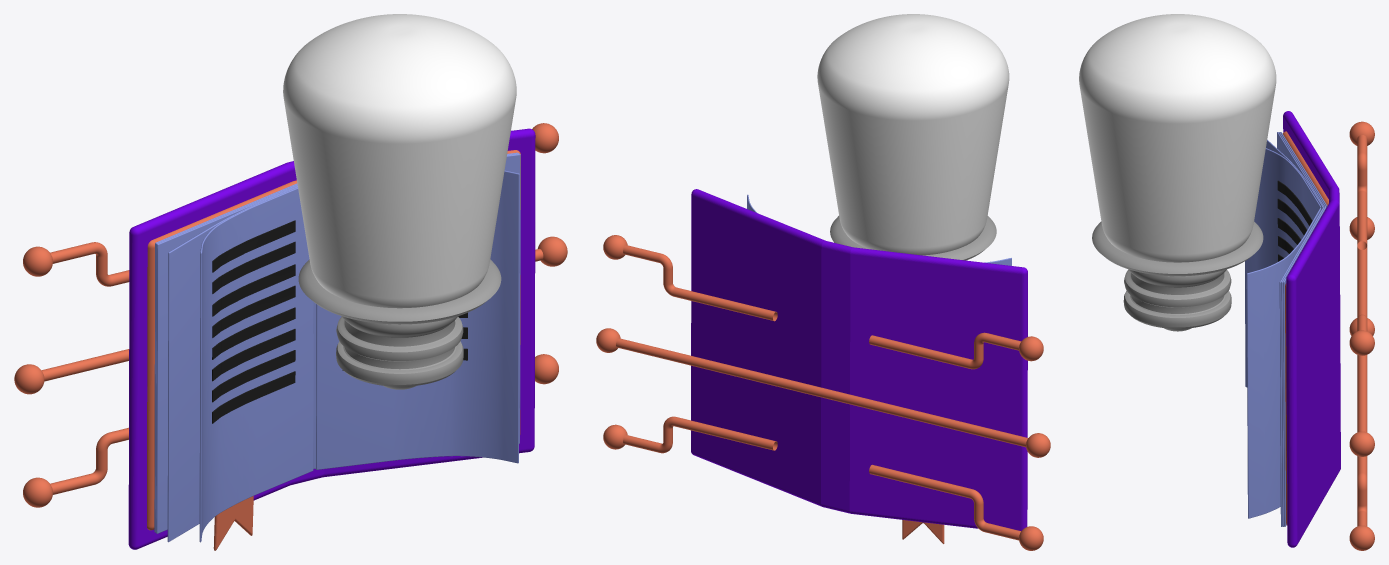
Rendered from multimodal-learning-3d-animated-icon-843779806897.glb.
3 views of the same model, side by side, from view 1: azimuth 30°, elevation 25°; view 2: azimuth 150°, elevation 25°; view 3: azimuth 270°, elevation 25° (orthographic). The views are drawn at different scales.
Parts seen in each view (by area): view 1: Cylinder.001, Plane.006, Plane, Cylinder, Plane.003, Plane.019, NurbsPath.001, Plane.005, Plane.001, Plane.012, Plane.008, Plane.002 (+1 smaller); view 2: Plane, Cylinder.001, NurbsPath.001, Cylinder; view 3: Cylinder.001, Plane, Plane.006, Cylinder, NurbsPath.001, Plane.019, Plane.012, Plane.013, Plane.014, Plane.015, Plane.001.
Part boxes in pixels (x1,y1,x2,y2): Cylinder.001: (283, 14, 516, 308); Plane.006: (199, 170, 519, 542); Plane: (128, 128, 535, 549); Cylinder: (298, 259, 501, 389); Plane.003: (167, 186, 297, 542); Plane.019: (212, 220, 467, 423); NurbsPath.001: (14, 123, 567, 507); Plane.005: (156, 185, 297, 533); Plane.001: (147, 180, 297, 530); Plane.012: (313, 154, 520, 468); Plane.008: (213, 496, 253, 550); Plane.002: (154, 183, 297, 531); Plane: (691, 189, 1027, 530); Cylinder.001: (817, 14, 1009, 255); NurbsPath.001: (596, 235, 1050, 550); Cylinder: (830, 216, 996, 260); Cylinder.001: (1079, 14, 1276, 262); Plane: (1283, 111, 1340, 547); Plane.006: (1245, 148, 1321, 518); Cylinder: (1092, 221, 1263, 331); NurbsPath.001: (1349, 121, 1374, 550); Plane.019: (1277, 180, 1312, 261); Plane.012: (1279, 207, 1324, 526); Plane.013: (1281, 207, 1325, 526); Plane.014: (1283, 207, 1326, 526); Plane.015: (1285, 283, 1287, 525); Plane.001: (1283, 131, 1328, 205).
Bounding box in the file's own units: 0.6367 × 0.6072 × 0.3517.
